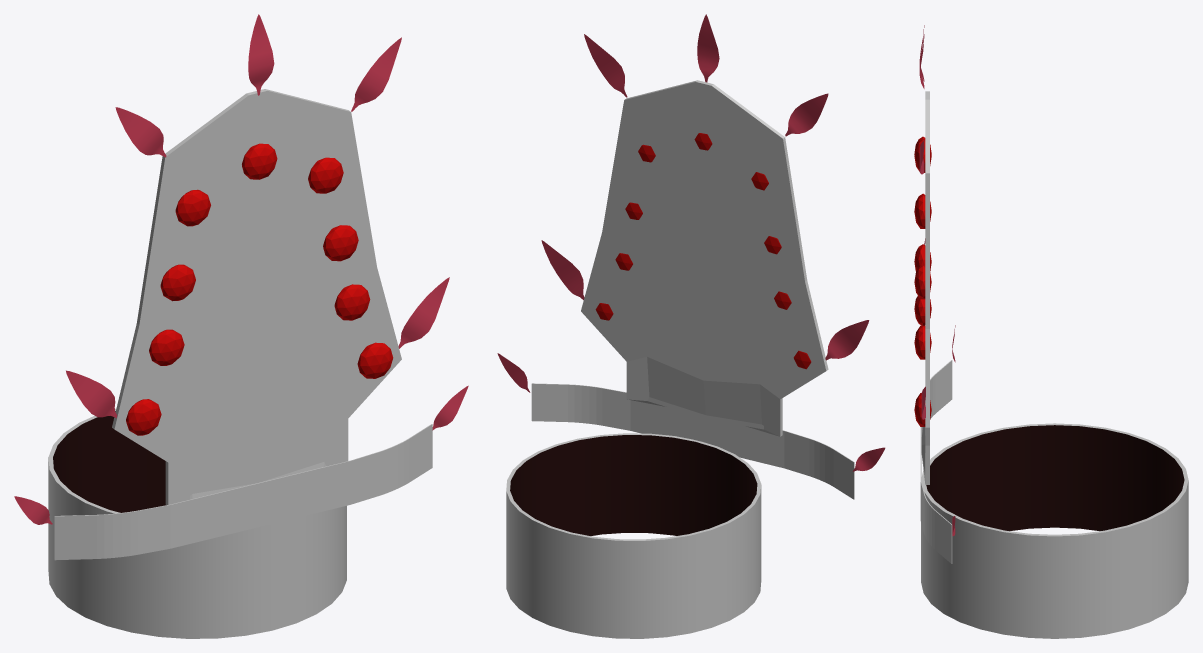
Rendered from toraja.obj.
3 views of the same model, side by side, from view 1: azimuth 30°, elevation 25°; view 2: azimuth 150°, elevation 25°; view 3: azimuth 270°, elevation 25° (orthographic). The views are drawn at different scales.
Visible parts, largest first — view 1: Plane, Circle, Plane.001, Icosphere.004, Plane.003, Plane.002, Icosphere; view 2: Plane, Circle, Plane.001, Plane.003, Icosphere.004, Plane.002; view 3: Circle, Plane.001, Plane, Icosphere.004, Plane.003.
Boxes of the visible parts, x1,y1,x2,y2 form: Plane: (112,89,401,505); Circle: (48,408,346,638); Plane.001: (54,424,432,560); Icosphere.004: (126,157,393,435); Plane.003: (14,37,468,524); Plane.002: (248,14,274,95); Icosphere: (242,143,277,179); Plane: (581,80,828,436); Circle: (506,433,761,638); Plane.001: (531,383,854,499); Plane.003: (497,34,885,471); Icosphere.004: (595,144,811,369); Plane.002: (697,14,719,82); Circle: (921,423,1188,638); Plane.001: (920,360,952,563); Plane: (921,91,929,484); Icosphere.004: (914,136,931,426); Plane.003: (919,25,955,536).
Bounding box in the file's own units: 3.12 × 4.06 × 1.82.
